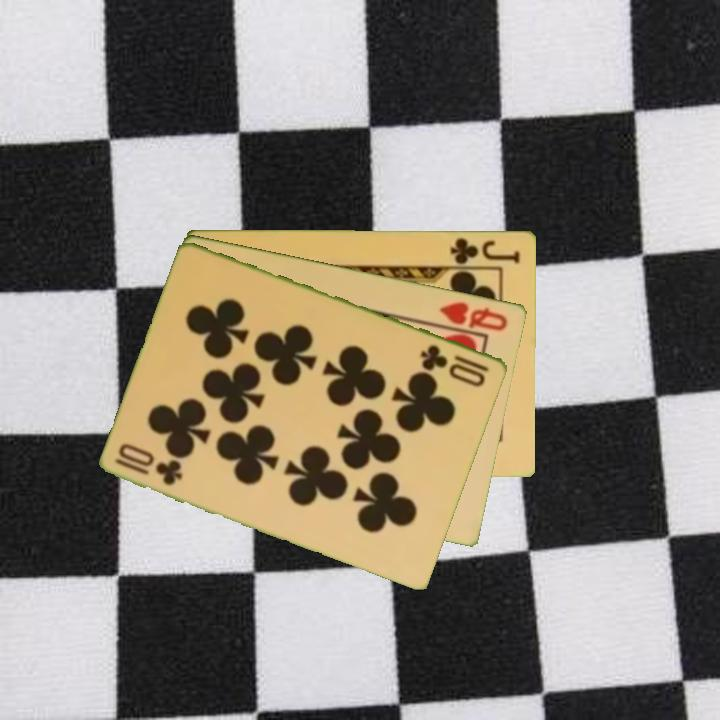10c: (417, 341, 493, 389), (112, 454, 186, 488)
Jc: (446, 233, 523, 266)
Qh: (436, 298, 511, 334)
